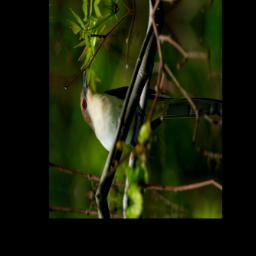Cuckoo: (77, 67, 218, 175)
